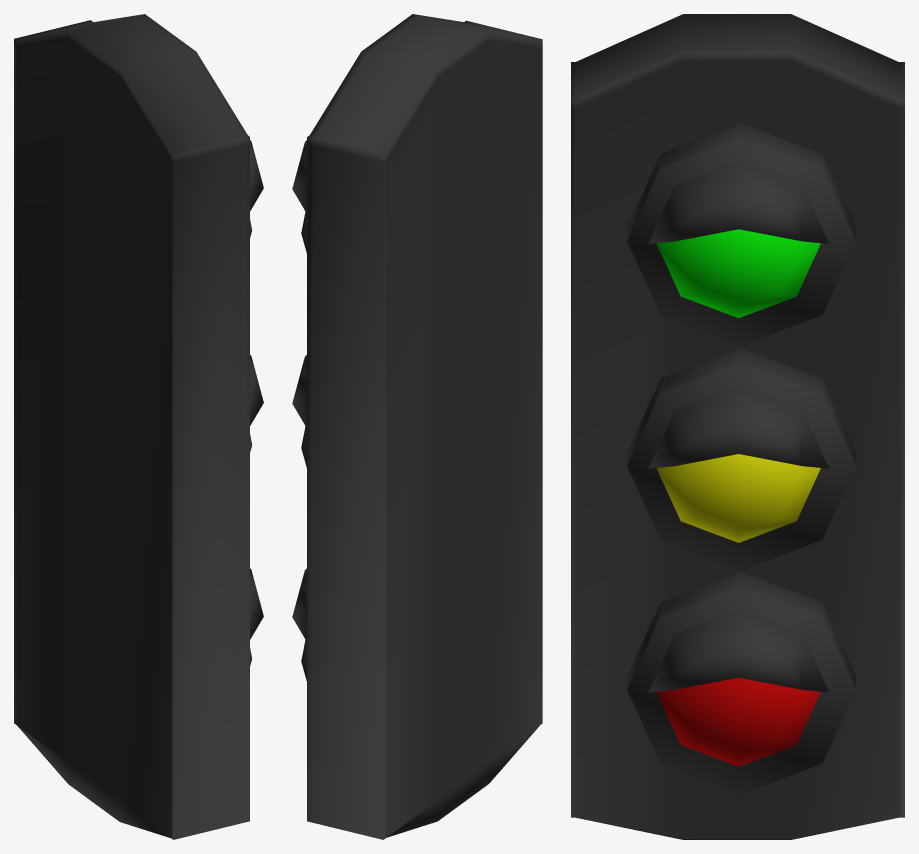
The picture shows the model from 3 angles, left to right: view 1: azimuth 30°, elevation 25°; view 2: azimuth 150°, elevation 25°; view 3: azimuth 270°, elevation 25°; orthographic projection. The views are drawn at different scales.
Parts seen in each view (by area): view 1: Plane; view 2: Plane; view 3: Plane.
Boxes of the visible parts, x1=… form: Plane: x1=14, y1=14, x2=263, y2=839; Plane: x1=292, y1=14, x2=542, y2=839; Plane: x1=571, y1=14, x2=904, y2=839.
Size of the model in its own units: 72.43 by 329 by 127.
